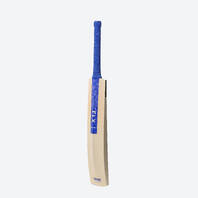bottom left: (85, 178, 96, 189)
bottom right: (103, 177, 115, 189)
top left: (82, 75, 93, 86)
top right: (102, 75, 112, 85)
